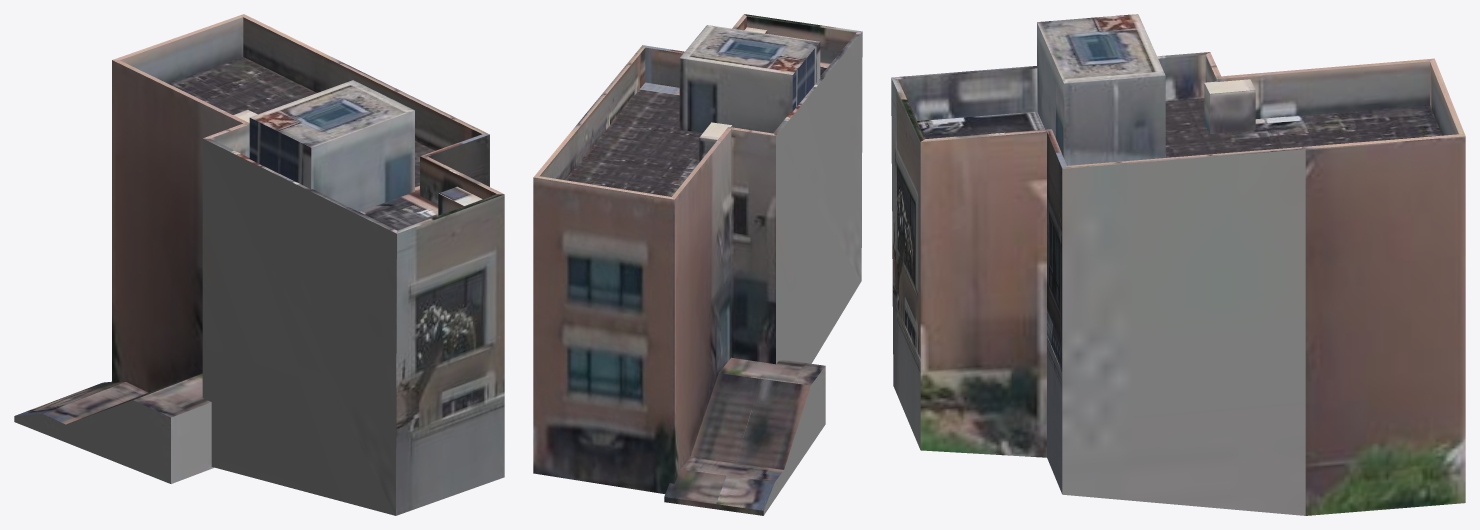
The picture shows the model from 3 angles, left to right: view 1: azimuth 30°, elevation 25°; view 2: azimuth 150°, elevation 25°; view 3: azimuth 270°, elevation 25°; orthographic projection. The views are drawn at different scales.
Parts seen in each view (by area): view 1: B280764033301063A0; view 2: B280764033301063A0; view 3: B280764033301063A0.
Boxes of the visible parts, x1,y1,x2,y2 form: B280764033301063A0: (14,14,504,515); B280764033301063A0: (533,14,862,515); B280764033301063A0: (891,14,1465,515).
Bounding box in the file's own units: 9.78 × 11.52 × 14.55.
1 material, 1 textured.
